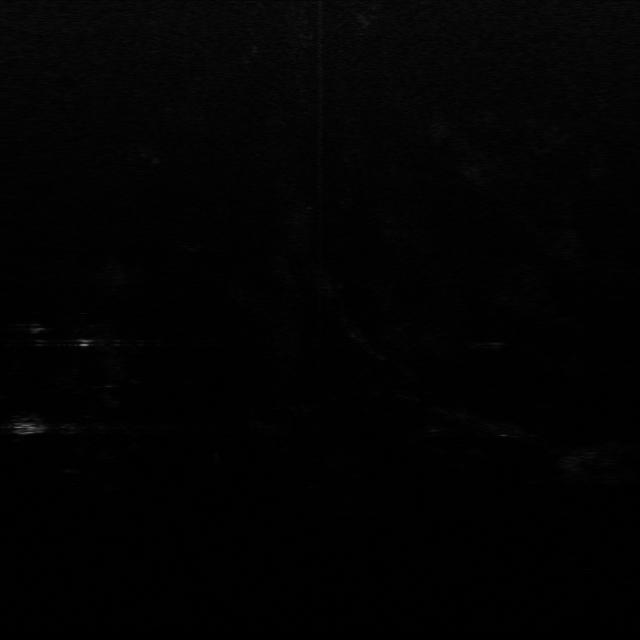rov: (6, 421, 44, 441)
